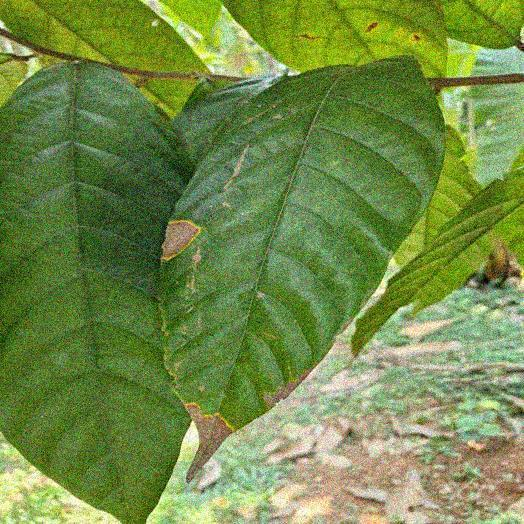Potassium: (160, 55, 445, 479)
